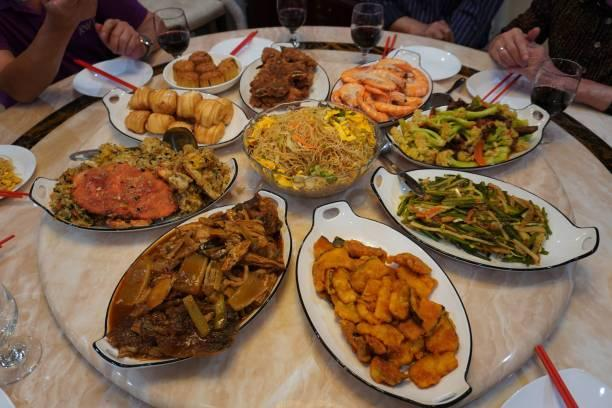Braised Crucian Carp: (90, 191, 291, 371), (295, 201, 472, 404), (371, 164, 598, 272), (36, 145, 239, 228), (381, 102, 548, 171), (248, 106, 373, 192), (104, 88, 247, 149), (329, 60, 432, 126), (237, 53, 329, 116)
